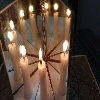fire: (38, 48, 43, 62)
